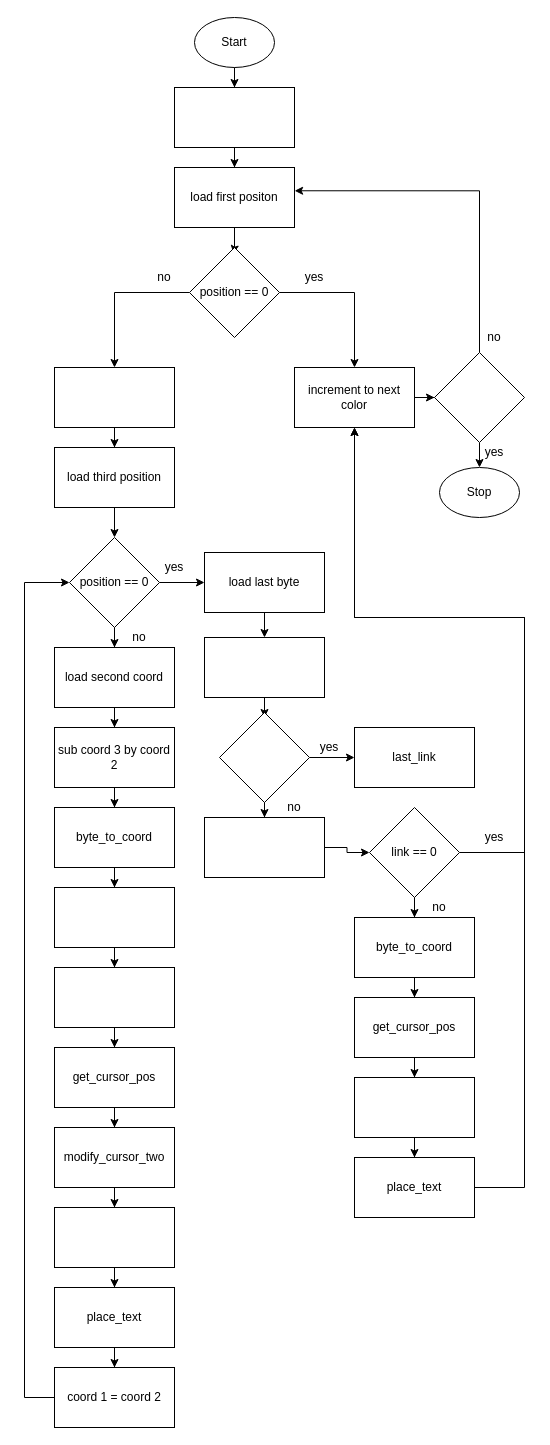
Some shapes in this 550 by 1445 pixel diagram are drawn without their labels. The centre of each missing label's shape, as x and y in pixels:
byte_to_coord (coord 2): the point at 114,997
check_completed: the point at 264,667
color > 7: the point at 479,397
color_text: the point at 114,1237
completed: the point at 264,757
increemnt pointer: the point at 114,397
link_char: the point at 114,917
load ptr_to_links: the point at 234,117
modiffy_cursor_two: the point at 414,1107
place '+': the point at 264,847
